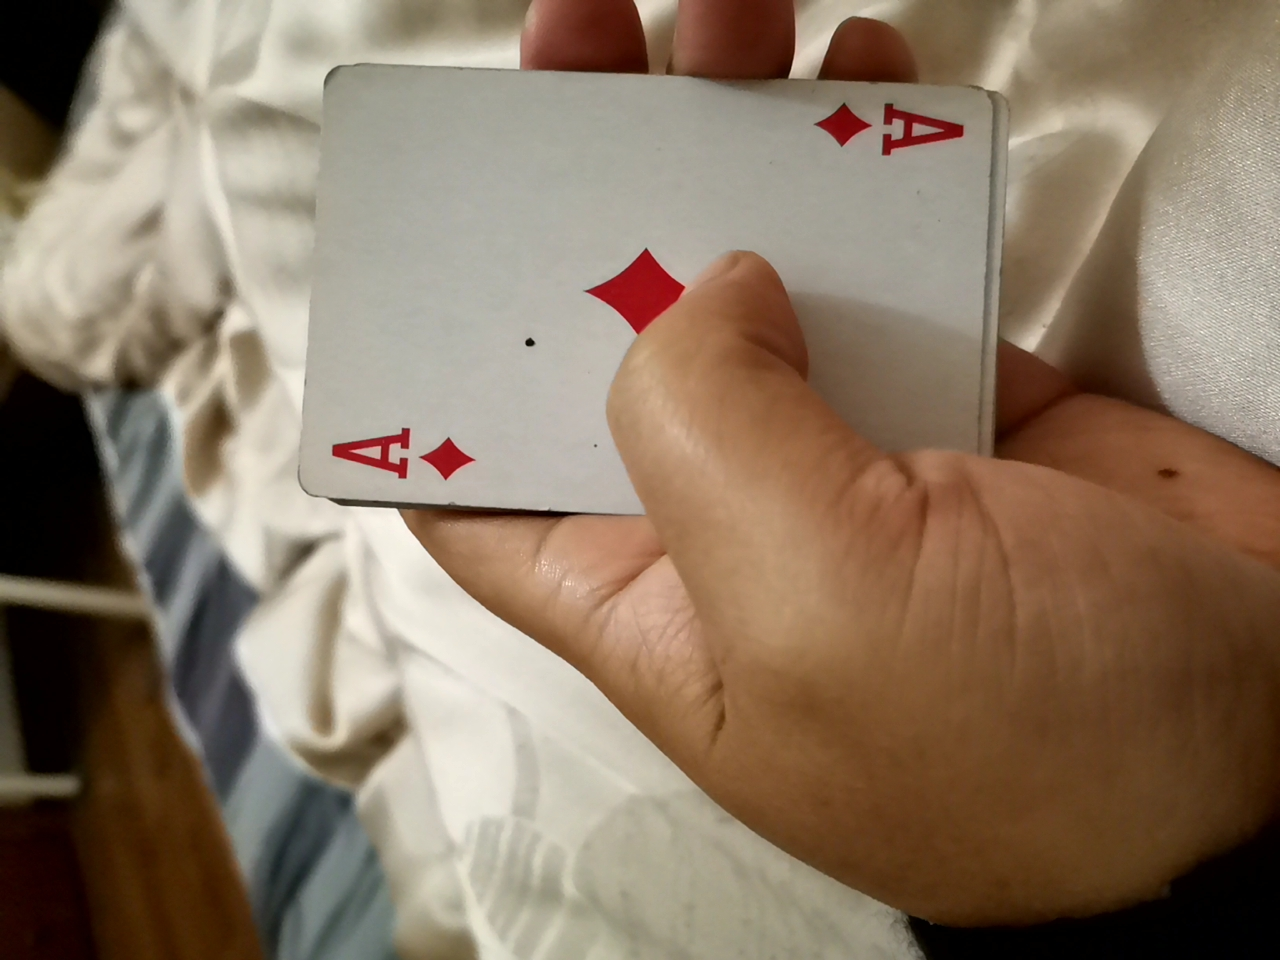fk a: (215, 55, 1123, 591)
